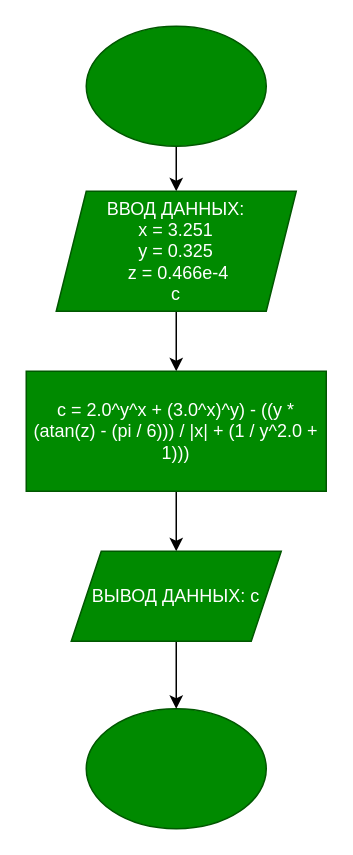
Image size: 353x855. Some labels were removed from this diagram. The shapes that lost their labels are listed below. From the top down, each one's box as (x1, y1, x2, y2) in pixels, then its label:
(85, 25, 266, 146): НАЧАЛО
(85, 707, 266, 829): КОНЕЦ
